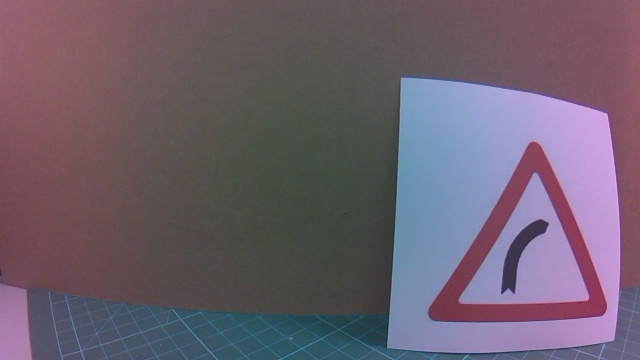right: (427, 148, 605, 324)
